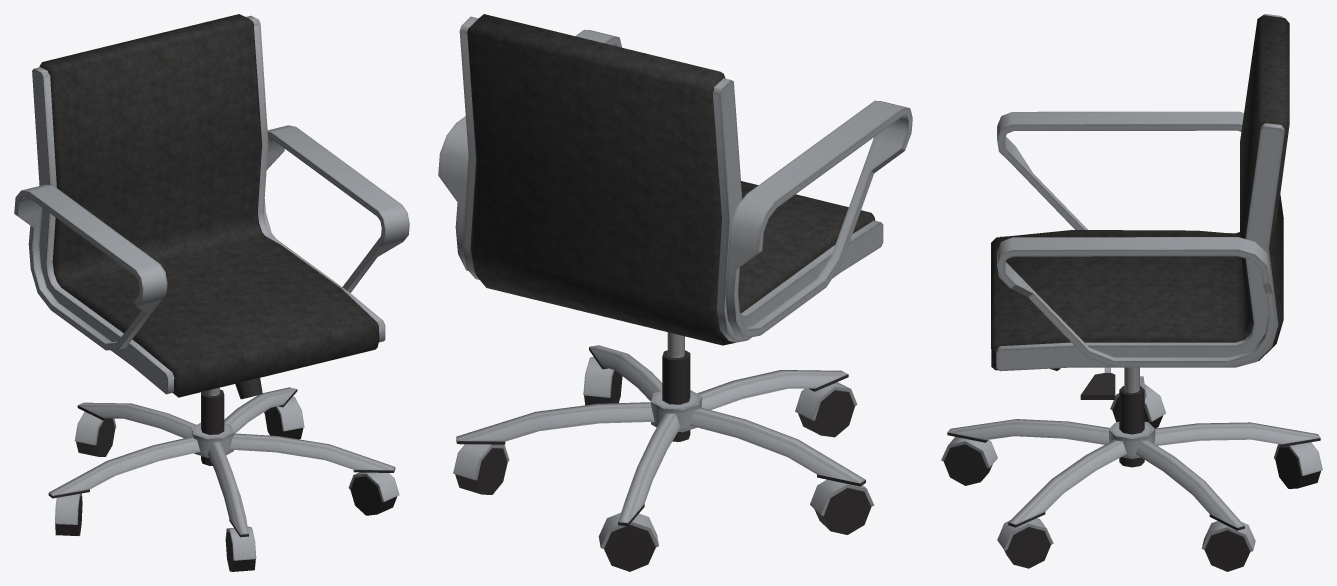
File: office_chair_modern.glb
3 views of the same model, side by side, from view 1: azimuth 30°, elevation 25°; view 2: azimuth 150°, elevation 25°; view 3: azimuth 270°, elevation 25° (orthographic). The views are drawn at different scales.
Parts seen in each view (by area): view 1: OfficeChair_Modern; view 2: OfficeChair_Modern; view 3: OfficeChair_Modern.
Part boxes in pixels (x1,y1,x2,y2): OfficeChair_Modern: (14,14,409,571); OfficeChair_Modern: (438,14,912,571); OfficeChair_Modern: (941,14,1322,571).
Size of the model in its own units: 0.7204 by 0.9662 by 0.7597.
Materials: 1 (1 with a texture image).
